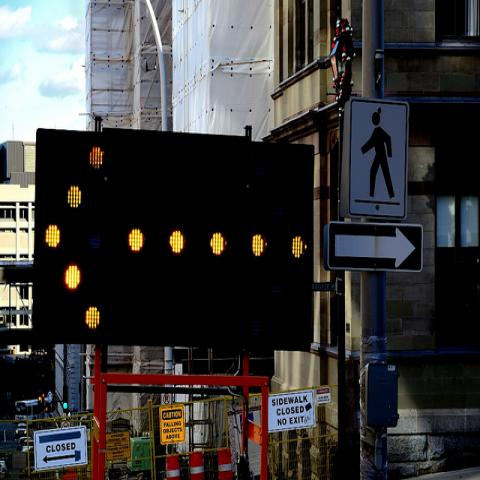car: (14, 423, 27, 440), (16, 437, 27, 452), (22, 439, 34, 452)
